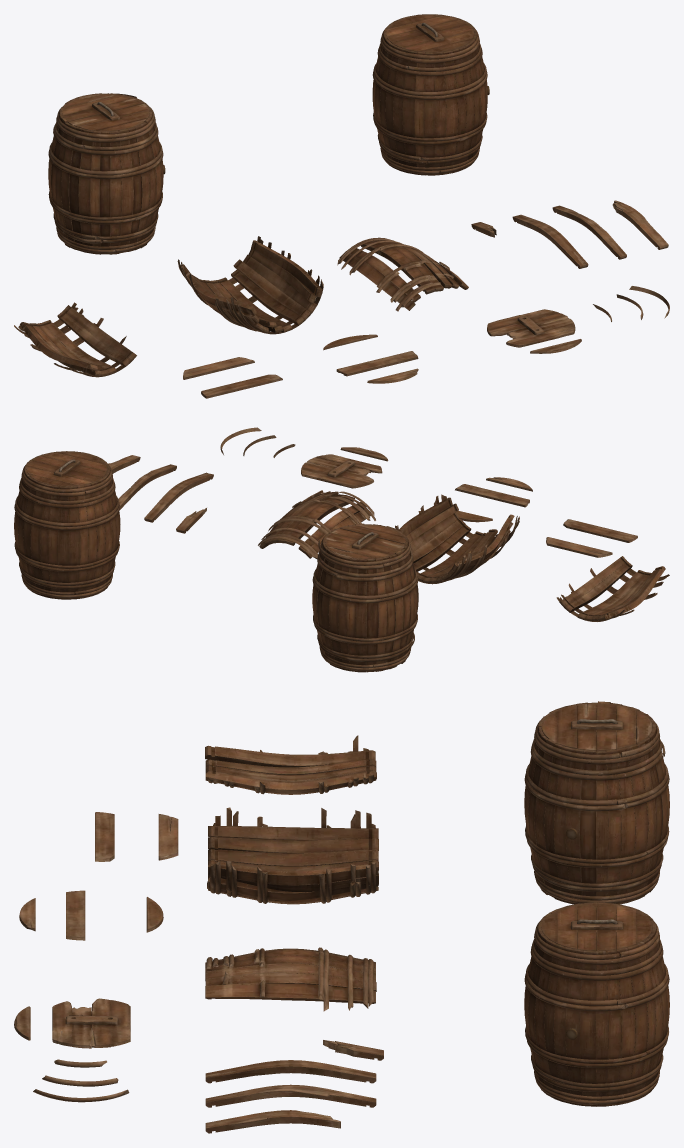
File: wooden_barrels_01.glb
3 renders of one model, top to bottom at view 1: azimuth 30°, elevation 25°; view 2: azimuth 150°, elevation 25°; view 3: azimuth 270°, elevation 25°, orthographic. The views are drawn at different scales.
Parts seen in each view (by area): view 1: wooden_barrels_01_piece01, wooden_barrels_01_barrel02, wooden_barrels_01_barrel01; view 2: wooden_barrels_01_piece01, wooden_barrels_01_barrel02, wooden_barrels_01_barrel01; view 3: wooden_barrels_01_piece01, wooden_barrels_01_barrel01, wooden_barrels_01_barrel02.
Part boxes in pixels (bbox=[...]): wooden_barrels_01_piece01: bbox=[14, 200, 669, 398]; wooden_barrels_01_barrel02: bbox=[48, 93, 165, 254]; wooden_barrels_01_barrel01: bbox=[372, 14, 489, 175]; wooden_barrels_01_piece01: bbox=[108, 427, 669, 621]; wooden_barrels_01_barrel02: bbox=[312, 523, 418, 672]; wooden_barrels_01_barrel01: bbox=[14, 451, 120, 599]; wooden_barrels_01_piece01: bbox=[14, 735, 383, 1133]; wooden_barrels_01_barrel01: bbox=[524, 902, 669, 1106]; wooden_barrels_01_barrel02: bbox=[524, 701, 669, 904].
Size of the model in its own units: 4.44 by 0.9568 by 3.34.
3 materials, 3 textured.
